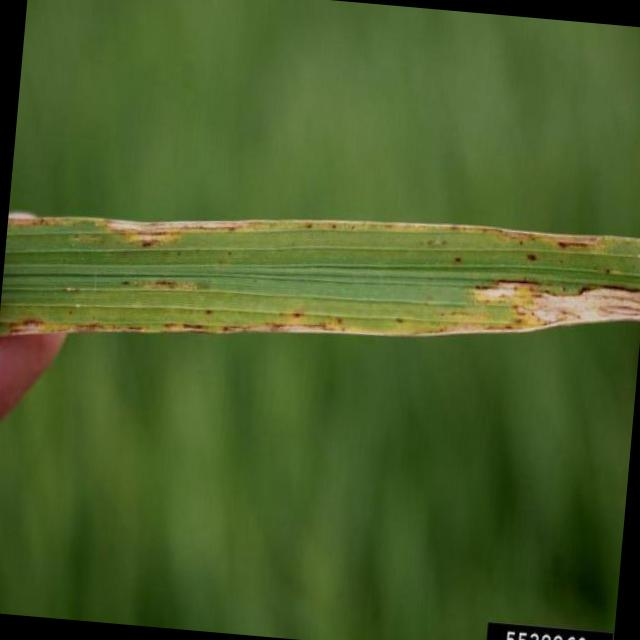Rice_Bacterial_Blight: (1, 172, 640, 345)
